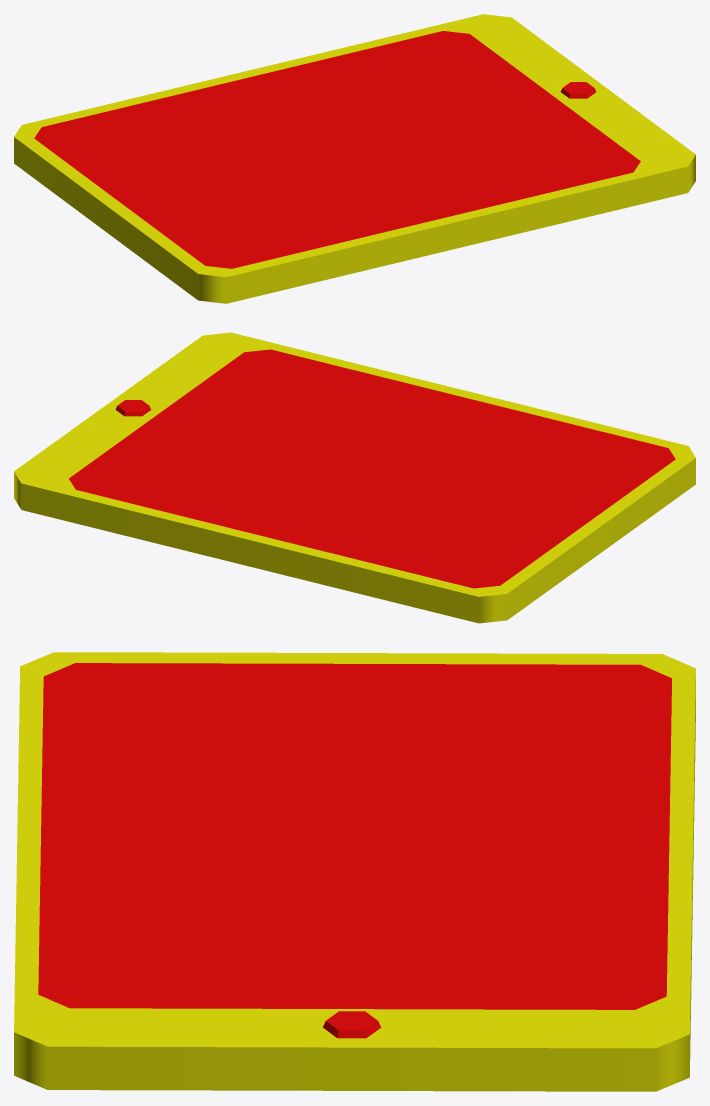
File: Tablet.fbx
3 views of the same model, one above another, from view 1: azimuth 30°, elevation 25°; view 2: azimuth 150°, elevation 25°; view 3: azimuth 270°, elevation 25° (orthographic). The views are drawn at different scales.
Parts seen in each view (by area): view 1: Tablet; view 2: Tablet; view 3: Tablet.
Boxes of the visible parts, x1=… form: Tablet: x1=14, y1=14, x2=695, y2=303; Tablet: x1=14, y1=332, x2=695, y2=623; Tablet: x1=14, y1=652, x2=695, y2=1091.
Bounding box in the file's own units: 35.11 × 2.06 × 25.53.
